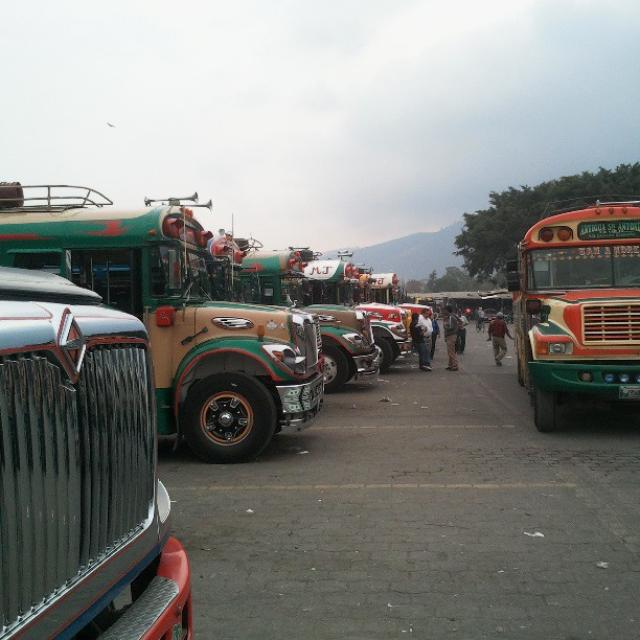Vehicle: (3, 189, 322, 467), (2, 262, 199, 632), (506, 196, 640, 432), (240, 249, 386, 392), (304, 248, 412, 371), (358, 266, 416, 359), (372, 273, 434, 320)
